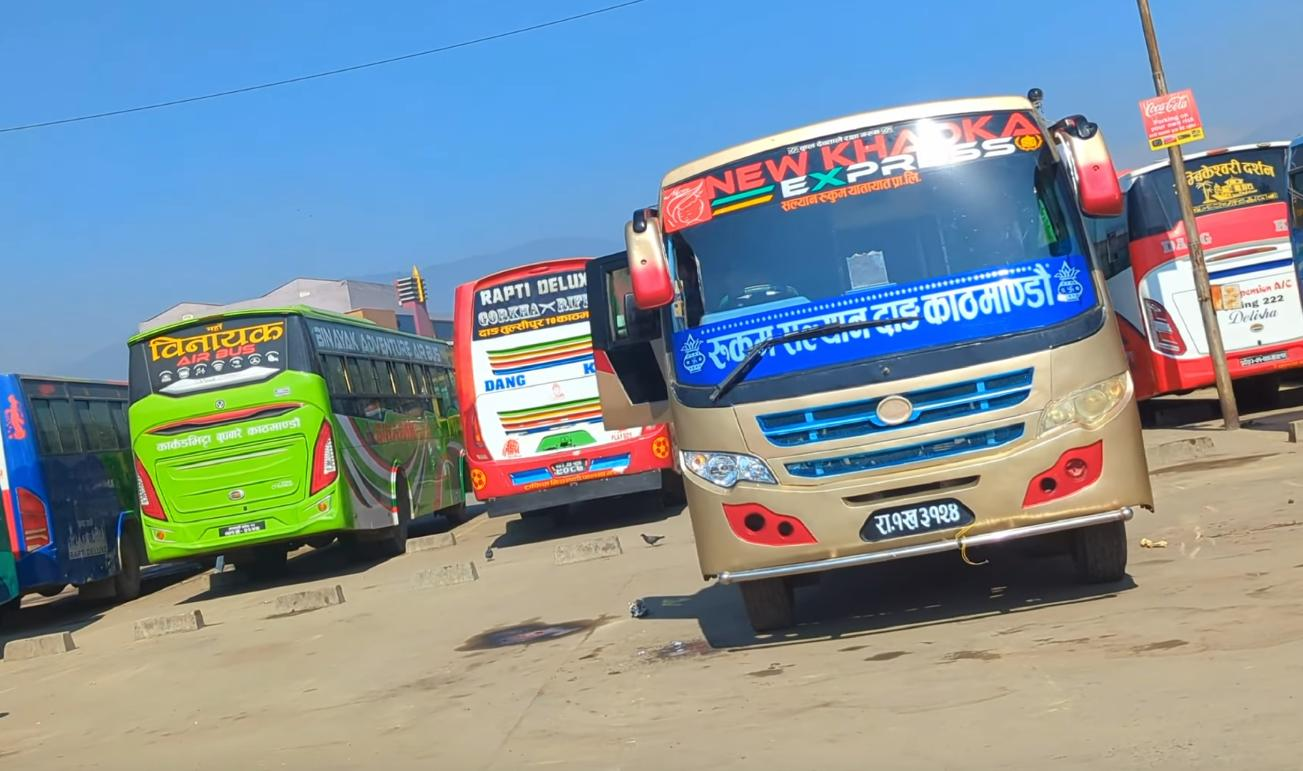bus: (623, 84, 1172, 648), (117, 291, 472, 587)
